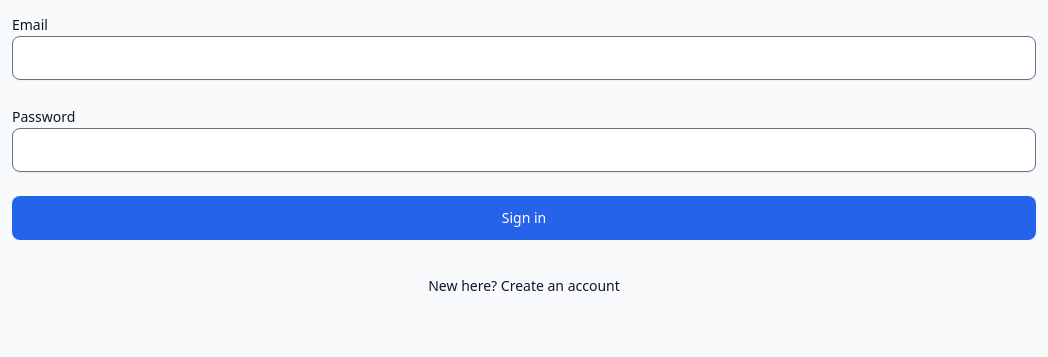
Scenario: offers explicit account creation with a new-password hint
Click the button "New here? Create an account" at coordinates (524, 286), box top-left (12, 264), bottom-right (1036, 308)
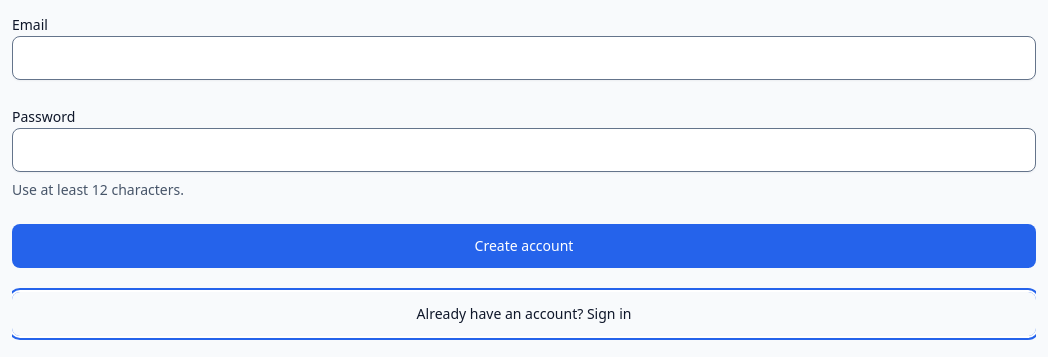
Expected: the button "Create account" is shown, top-left (12, 224), bottom-right (1036, 268)
